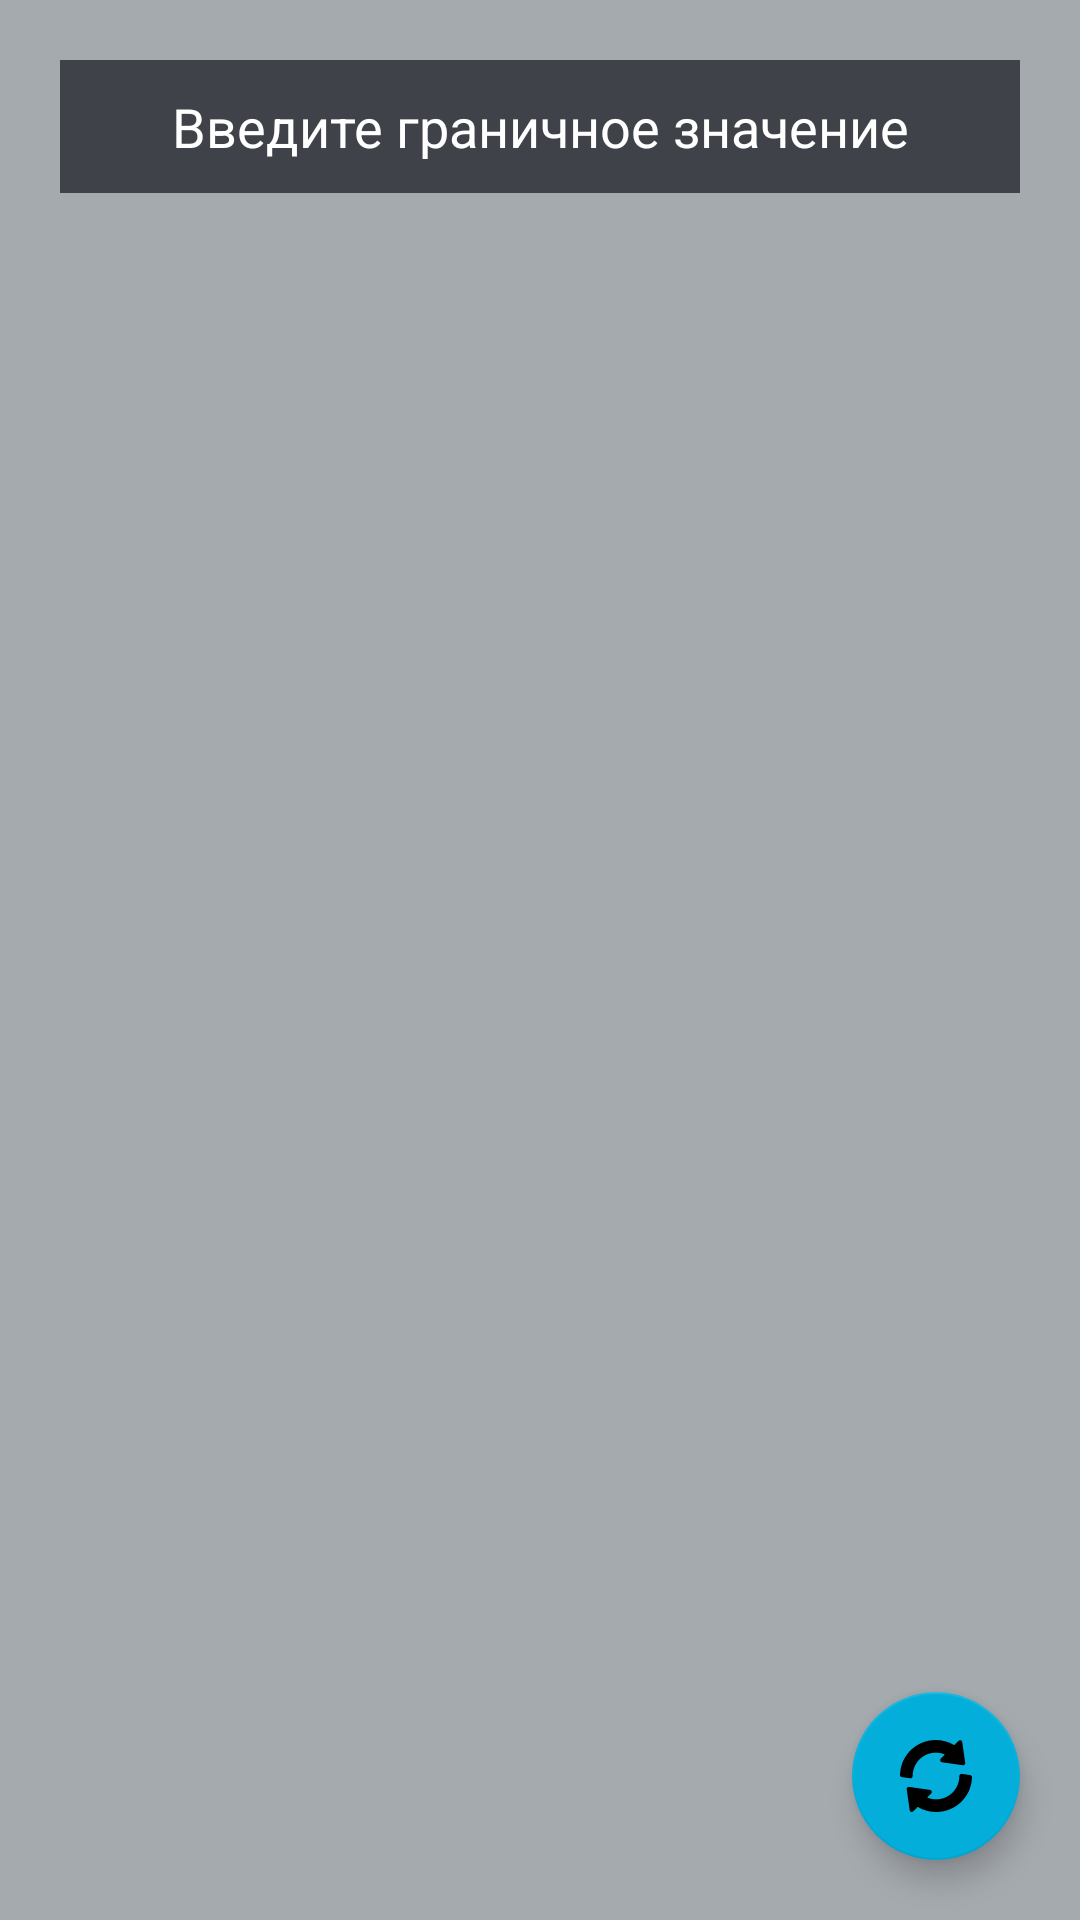

Icon click points for this 1080 × 1920 phone screenshot, format point (x, y):
reload: point (936, 1776)
